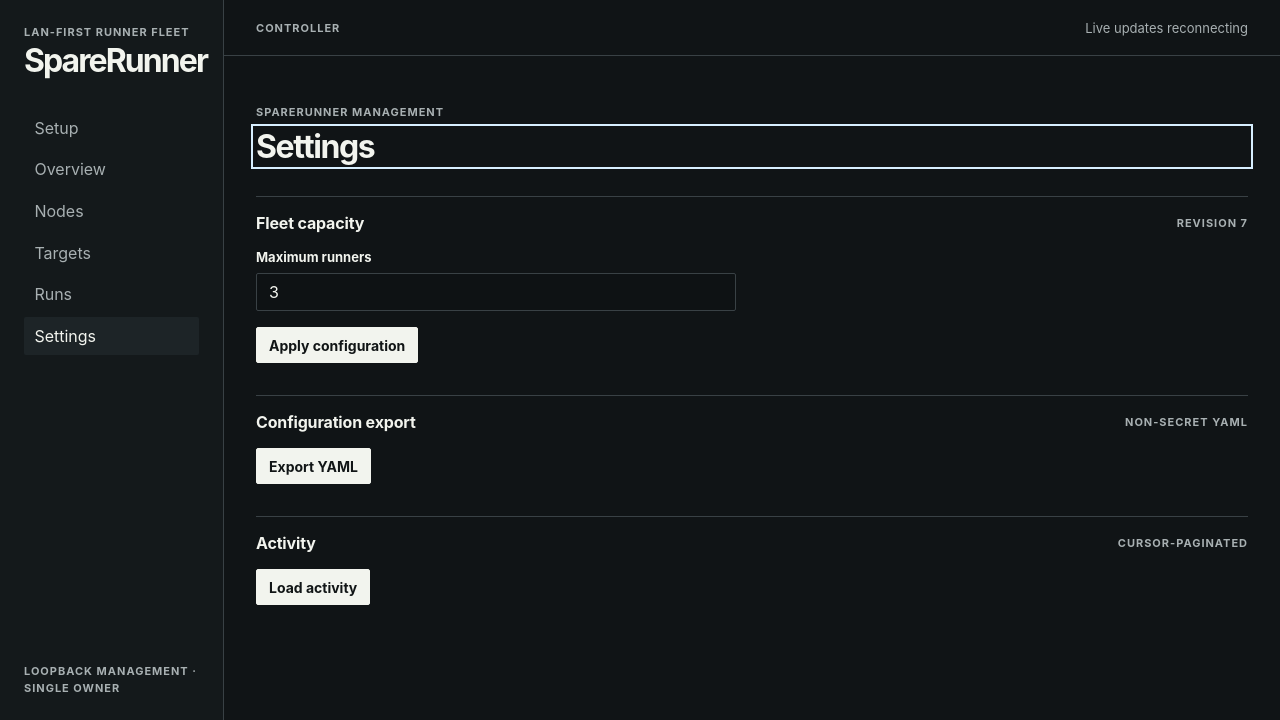
Test case: App › retains a configuration draft until a revision conflict is explicitly reviewed
Replace the text in the number field labelled "Maximum runners" with "2" at coordinates (496, 292), box [256,273,736,311]
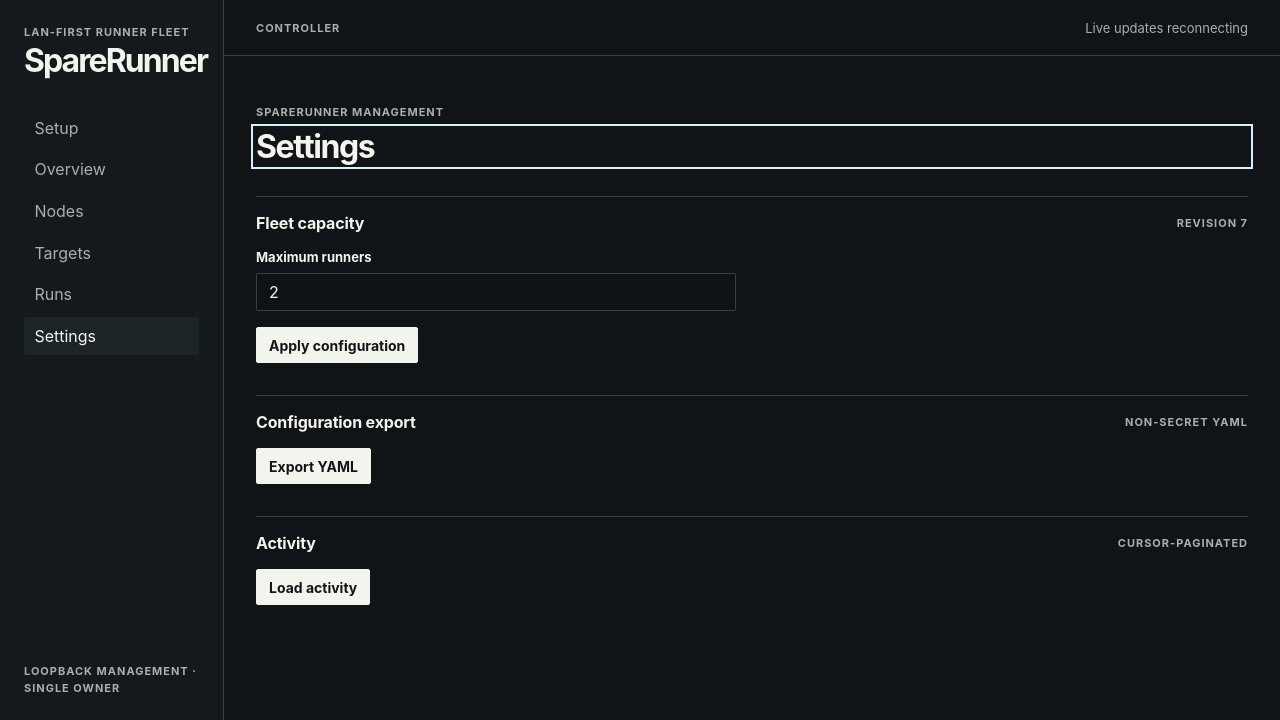
Click the button "Apply configuration" at coordinates (337, 345), box [256,327,418,363]
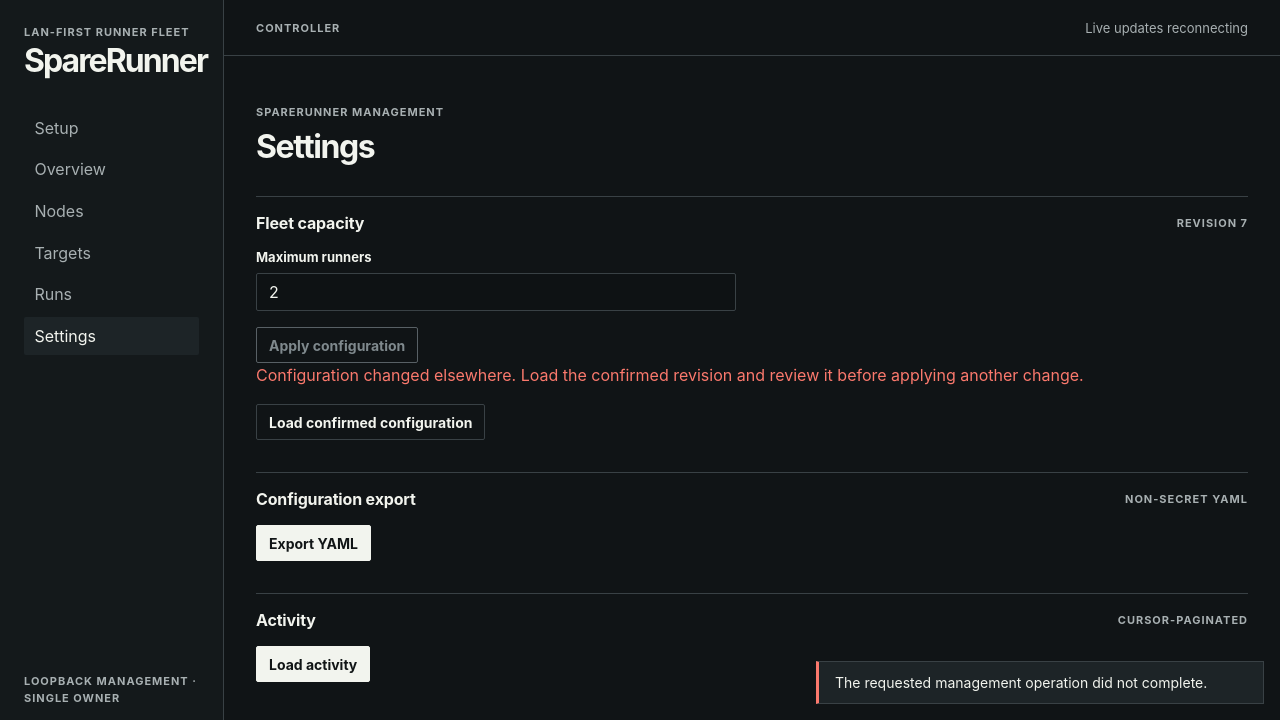
Now the button "Apply configuration" is disabled, box [256,327,418,363]
Click the button "Load confirmed configuration" at coordinates (371, 422), box [256,404,485,440]
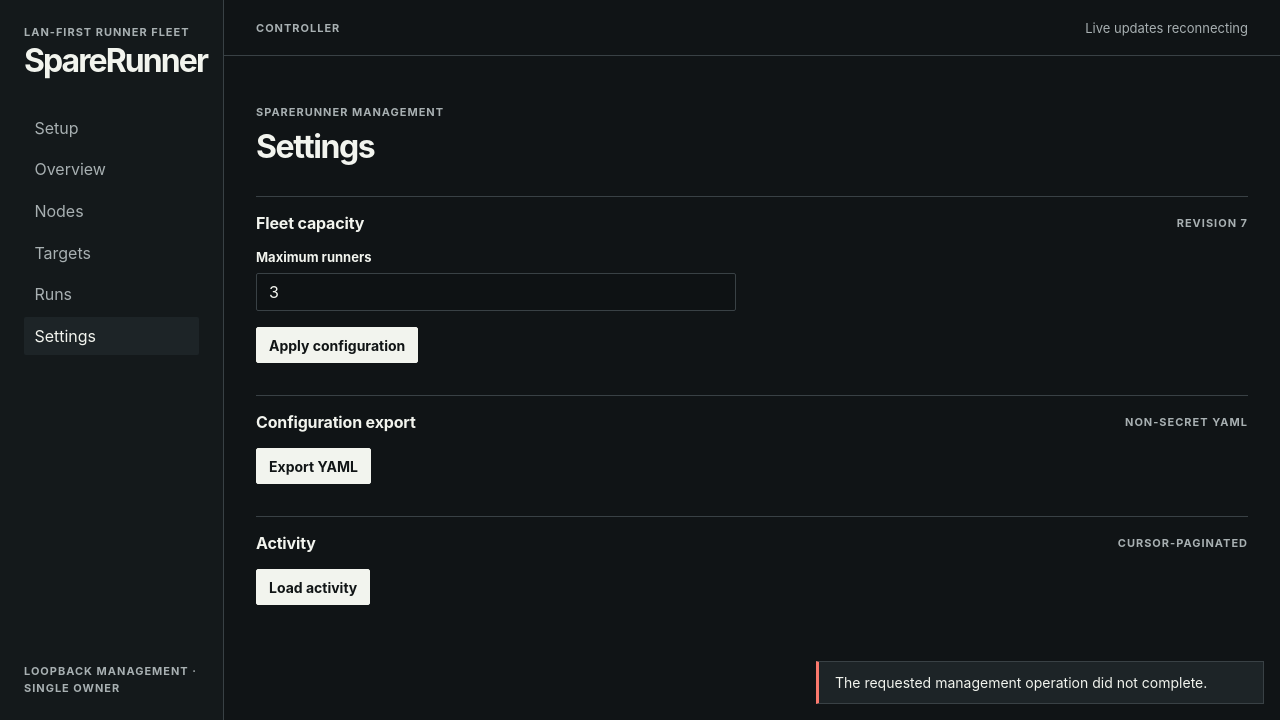
Now the number field labelled "Maximum runners" holds "3", box [256,273,736,311]
